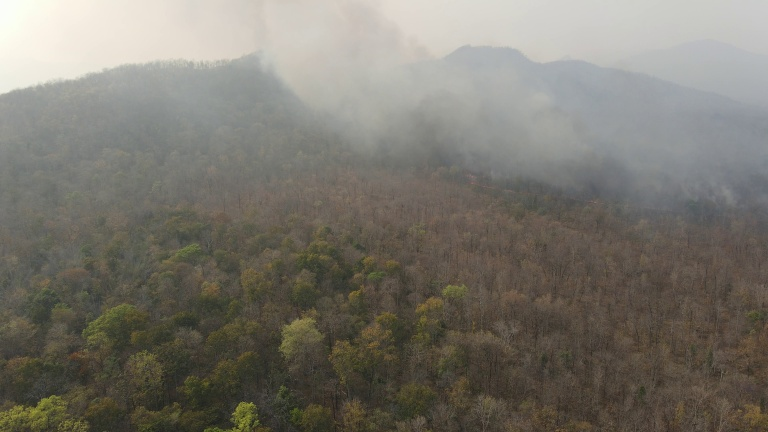fire: (463, 178, 504, 196)
smoke: (202, 1, 607, 184), (597, 101, 766, 206), (245, 13, 278, 78)
